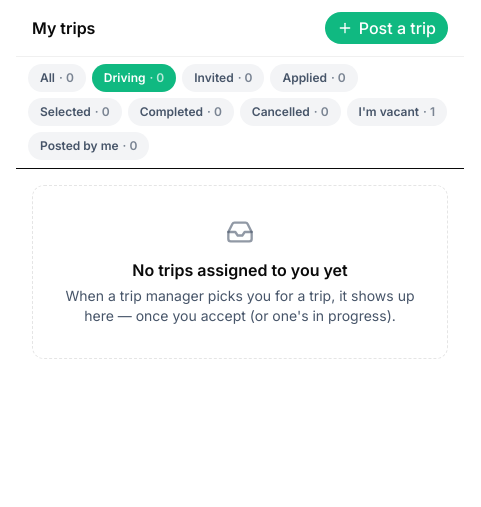
Test: DriverActivityPage › the I’m vacant tab renders expired vacancies in a separate Expired section with a red badge
Click the button "I'm vacant · 1" at (397, 112), box 347,98 -> 447,126
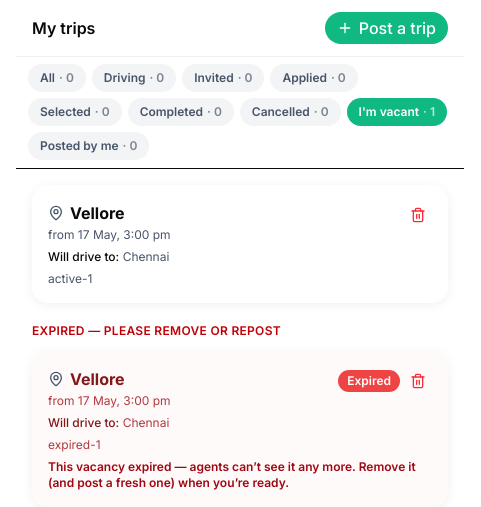
expect the text "Expired — please remove or repost" is shown: met, box 32,323 -> 281,338
expect the text "Expired" is shown: met, box 338,370 -> 400,392
